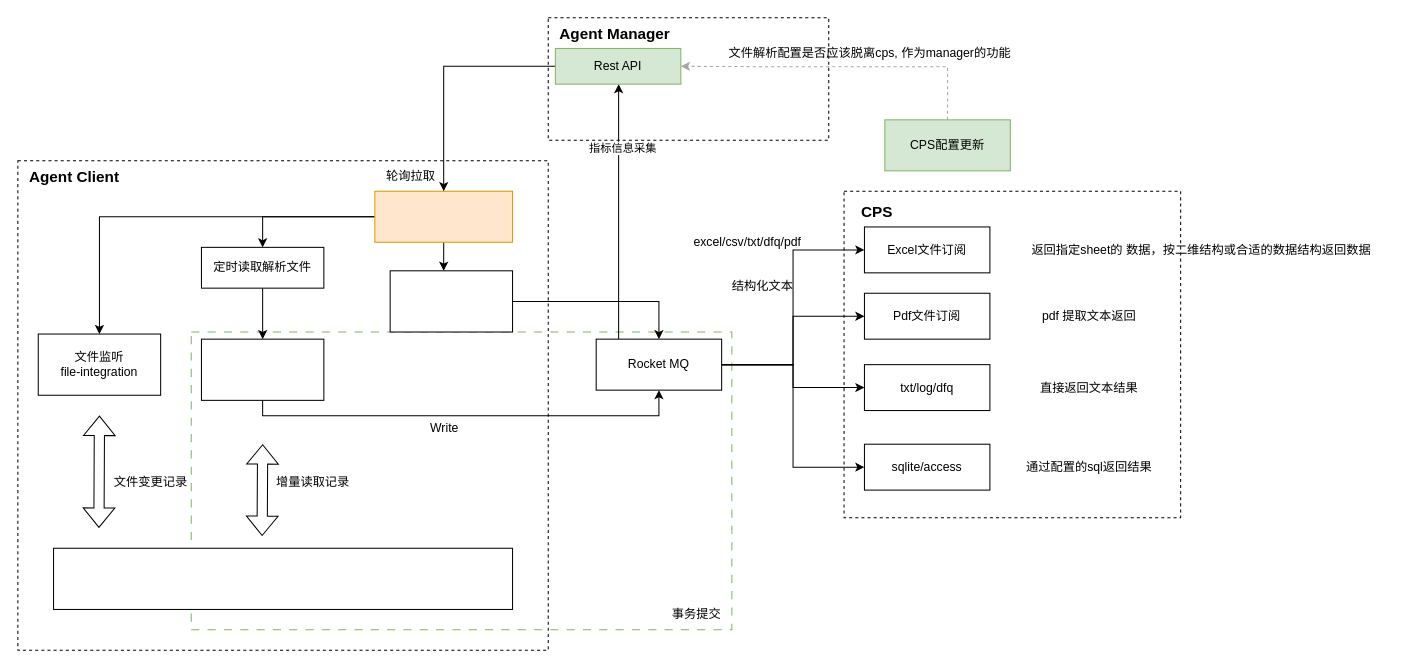
Image size: 1403x668. Some labels were removed from this diagram. The centre of each missing label's shape, as x and y in pixels:
sqlite存储 tb_file_log 文件记录: the point at 283,578
文件解析任务 spring-batch-job: the point at 262,369
日志指标采集 log-metric: the point at 451,301
配置更新: the point at 443,216
